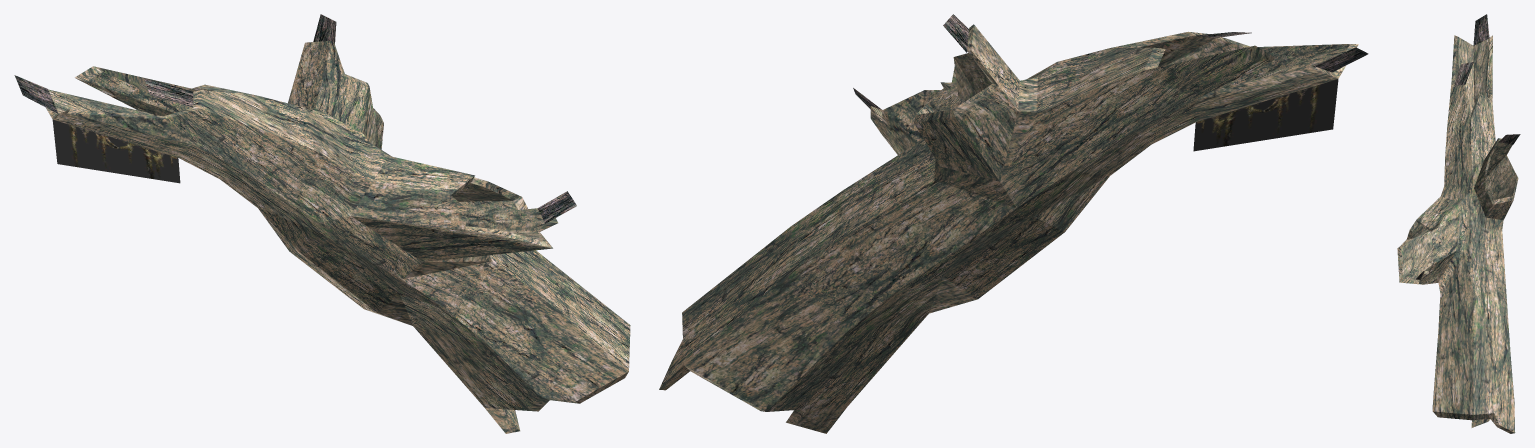
Rendered from poi_all_lair_dead_log_small_l0.fbx.
3 views of the same model, side by side, from view 1: azimuth 30°, elevation 25°; view 2: azimuth 150°, elevation 25°; view 3: azimuth 270°, elevation 25° (orthographic). The views are drawn at different scales.
Visible parts, largest first — view 1: mesh_node; view 2: mesh_node; view 3: mesh_node.
Part boxes in pixels (<box>): mesh_node: <box>14,14,630,433</box>; mesh_node: <box>659,14,1368,433</box>; mesh_node: <box>1397,14,1520,433</box>.
Size of the model in its own units: 7.08 by 5.21 by 2.12.
